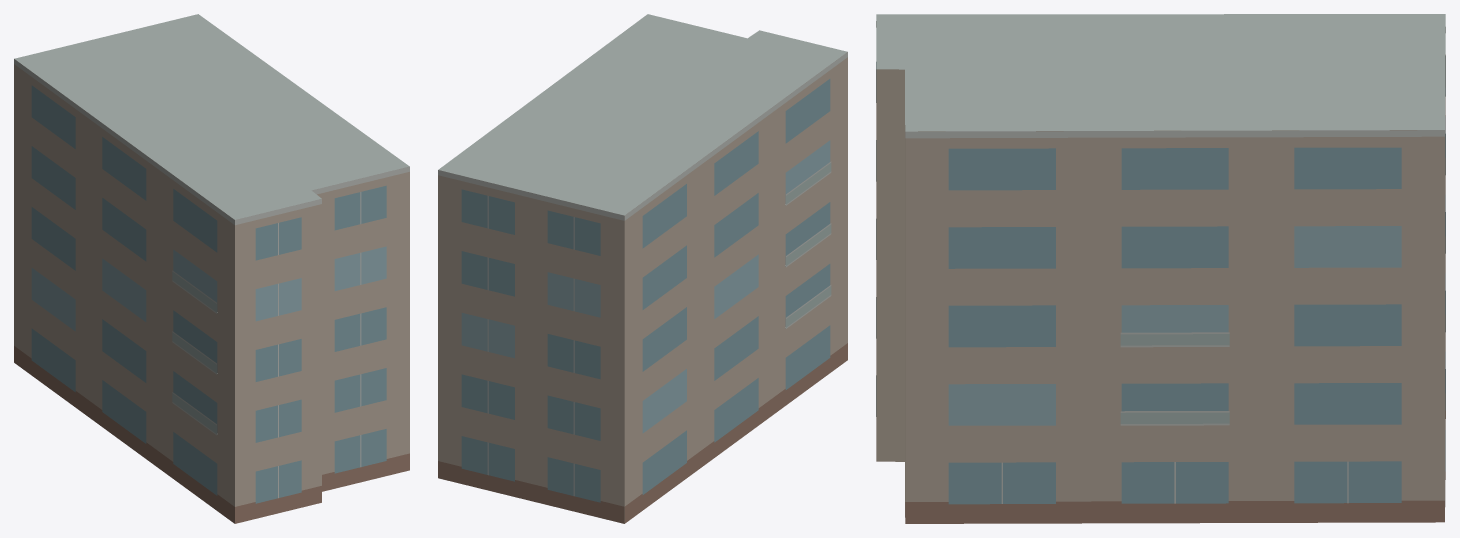
The model's file is survey-upis-32822161.glb.
3 renders of one model, left to right at view 1: azimuth 30°, elevation 25°; view 2: azimuth 150°, elevation 25°; view 3: azimuth 270°, elevation 25°, orthographic. The views are drawn at different scales.
Visible parts, largest first — view 1: survey-upis-32822161.tmp; view 2: survey-upis-32822161.tmp; view 3: survey-upis-32822161.tmp.
Boxes of the visible parts, left/top/right/bottom form: survey-upis-32822161.tmp: left=14, top=14, right=409, bottom=523; survey-upis-32822161.tmp: left=438, top=14, right=847, bottom=523; survey-upis-32822161.tmp: left=876, top=14, right=1445, bottom=523.
Size of the model in its own units: 9.08 by 14.1 by 18.56.
